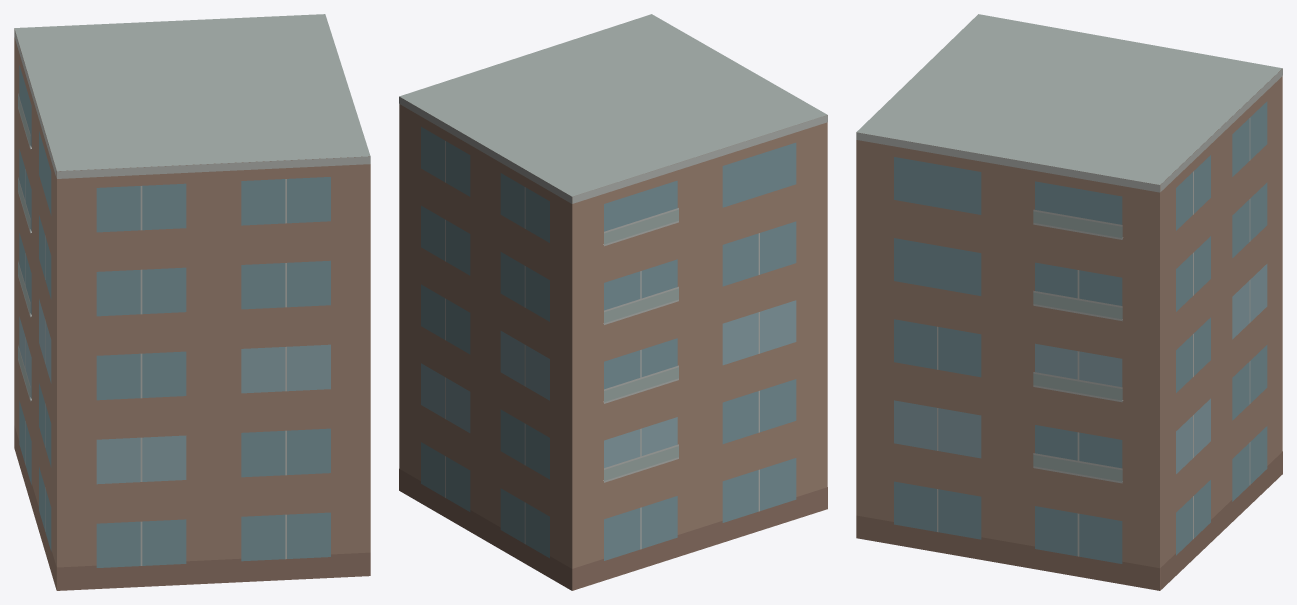
The model's file is survey-upis-32941774.glb.
The picture shows the model from 3 angles, left to right: view 1: azimuth 30°, elevation 25°; view 2: azimuth 150°, elevation 25°; view 3: azimuth 270°, elevation 25°; orthographic projection. The views are drawn at different scales.
Parts seen in each view (by area): view 1: survey-upis-32941774.tmp; view 2: survey-upis-32941774.tmp; view 3: survey-upis-32941774.tmp.
Boxes of the visible parts, bbox=[...] form: survey-upis-32941774.tmp: bbox=[14, 14, 370, 590]; survey-upis-32941774.tmp: bbox=[399, 14, 827, 590]; survey-upis-32941774.tmp: bbox=[856, 14, 1282, 590].
Size of the model in its own units: 11.85 by 13.1 by 12.49.
